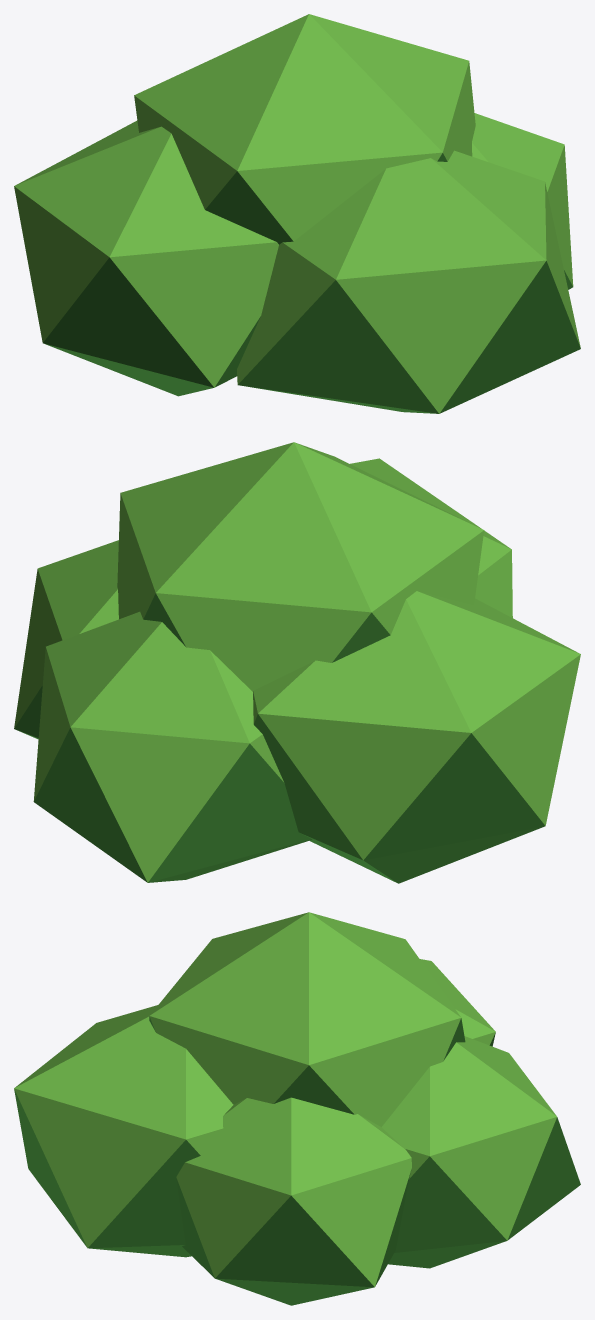
Rendered from veg_bush.glb.
The picture shows the model from 3 angles, top to bottom: view 1: azimuth 30°, elevation 25°; view 2: azimuth 150°, elevation 25°; view 3: azimuth 270°, elevation 25°; orthographic projection. The views are drawn at different scales.
Parts seen in each view (by area): view 1: veg_bush; view 2: veg_bush; view 3: veg_bush.
Boxes of the visible parts, bbox=[...] form: veg_bush: bbox=[14, 14, 580, 413]; veg_bush: bbox=[14, 442, 580, 883]; veg_bush: bbox=[14, 912, 580, 1305].
Bounding box in the file's own units: 2.36 × 1.67 × 2.51.
